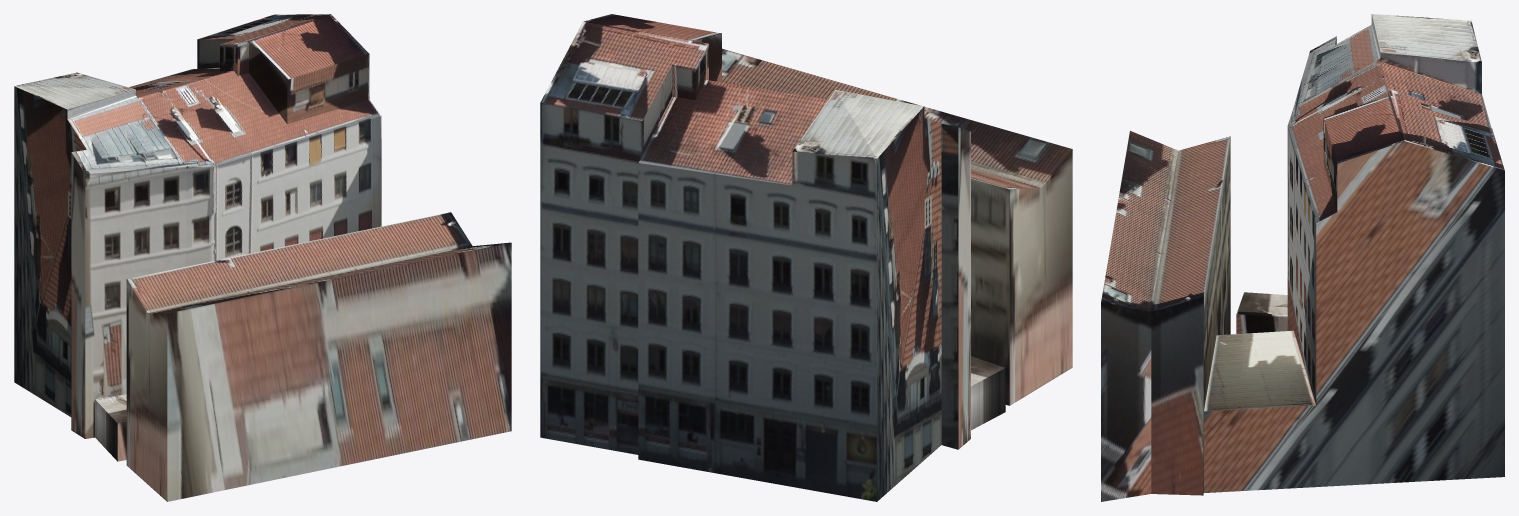
3 views of the same model, side by side, from view 1: azimuth 30°, elevation 25°; view 2: azimuth 150°, elevation 25°; view 3: azimuth 270°, elevation 25° (orthographic). The views are drawn at different scales.
Visible parts, largest first — view 1: Z_UP; view 2: Z_UP; view 3: Z_UP.
Boxes of the visible parts, bbox=[...] form: Z_UP: bbox=[14, 14, 511, 501]; Z_UP: bbox=[540, 14, 1072, 501]; Z_UP: bbox=[1101, 14, 1504, 501].
Bounding box in the file's own units: 26.59 × 24.71 × 26.49.
2 materials, 1 textured.
